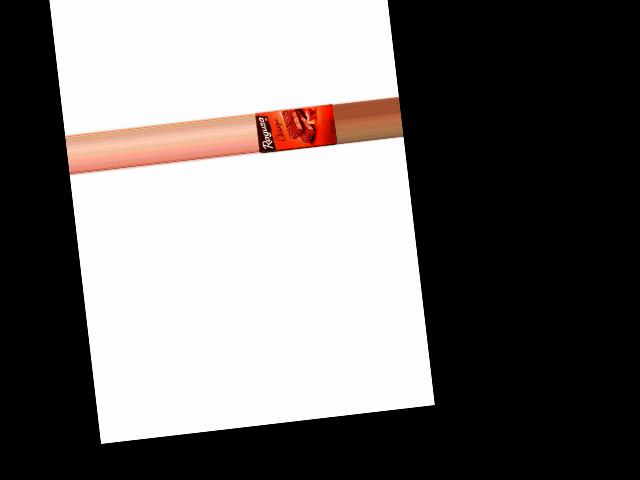chocolate: (255, 99, 338, 155)
